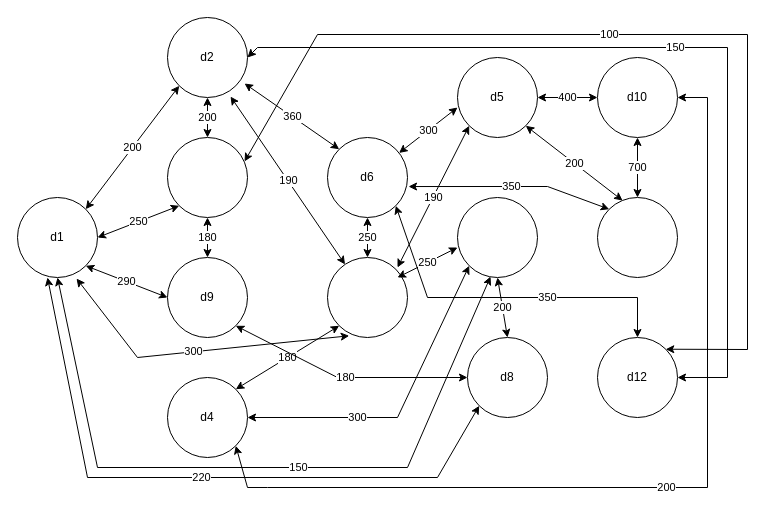
This 774x514 diagram has some shape labels left out. Each missing label, with the centre of its shape:
d11: point 637,237
d13: point 207,177
d3: point 367,297
d7: point 497,237
